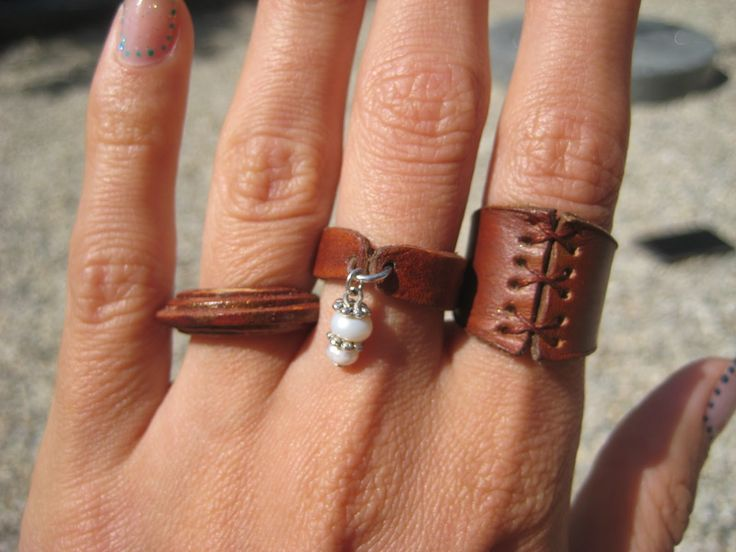cuero: (314, 204, 618, 362)
